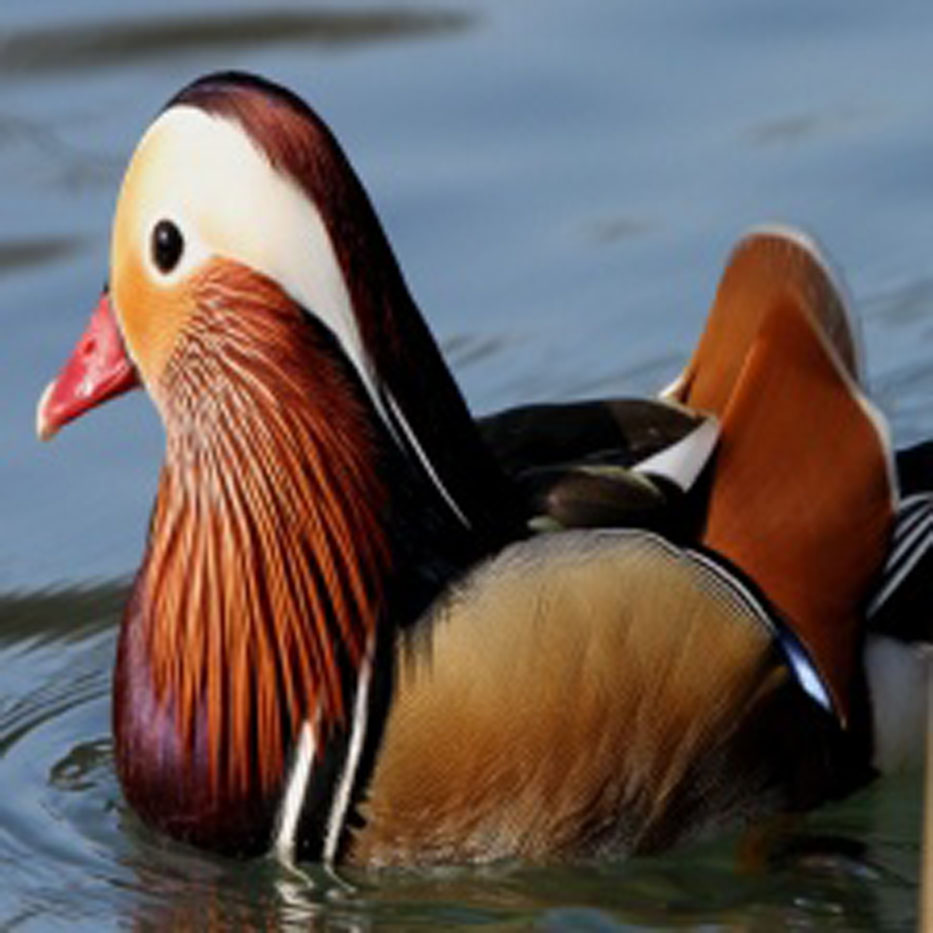Mencari Makan di Lumpur: (1, 295, 161, 424)
